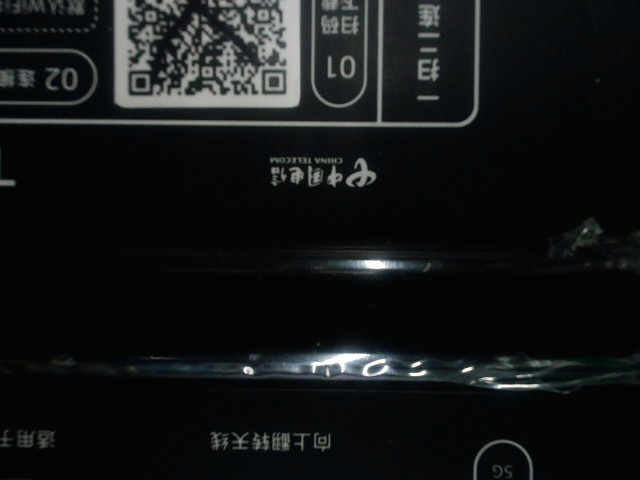AB_ChinaTelecom: (264, 151, 381, 195)
